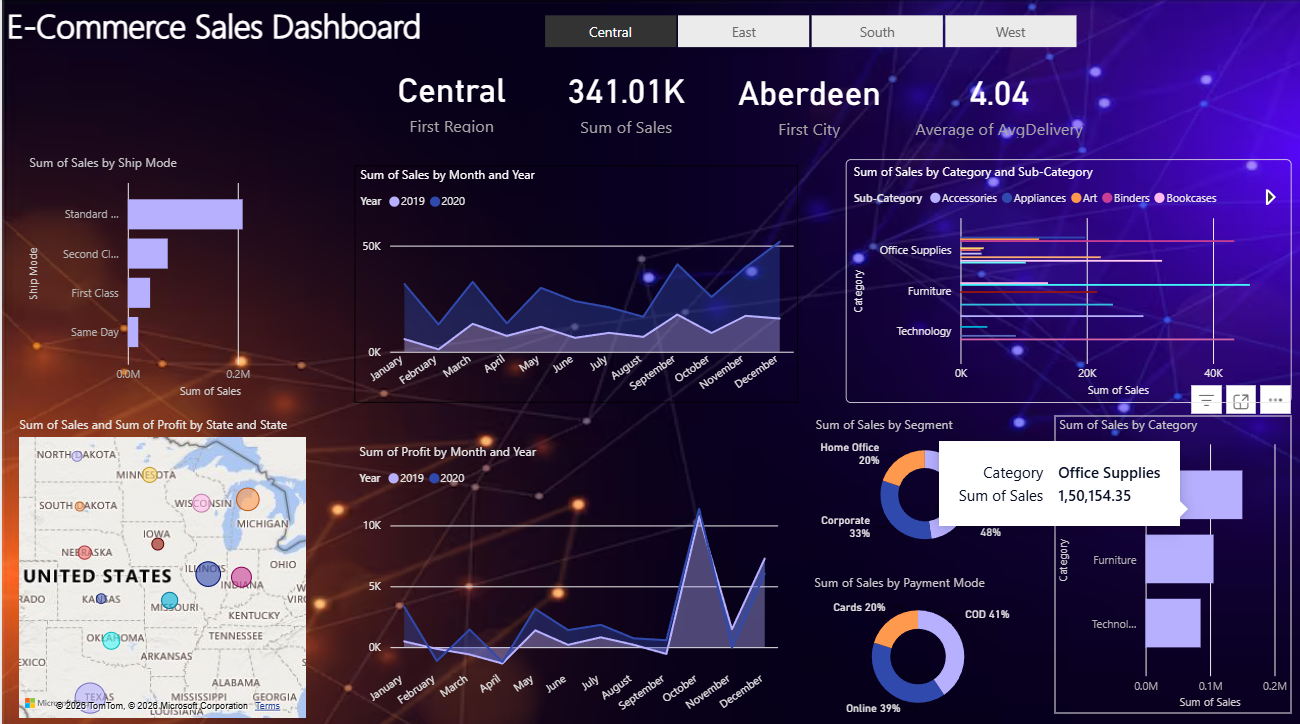

What the dashboard file says about the page in this screenshot:
{"tool":"powerbi","page":{"name":"Sales Analysis","canvas":[1280,720],"ordinal":0},"visuals":[{"type":"clusteredBarChart","fields":{"Category":["SuperStore_Sales_Dataset (2).Category"],"Y":["Sum(SuperStore_Sales_Dataset (2).Sales)"]},"box":[1033.1,409.8,233.1,293.3],"z":0},{"type":"clusteredBarChart","fields":{"Category":["SuperStore_Sales_Dataset (2).Category"],"Y":["Sum(SuperStore_Sales_Dataset (2).Sales)"],"Series":["SuperStore_Sales_Dataset (2).Sub-Category"]},"box":[828.2,158.1,437.5,239.3],"z":1000},{"type":"clusteredBarChart","fields":{"Category":["SuperStore_Sales_Dataset (2).Ship Mode"],"Y":["Sum(SuperStore_Sales_Dataset (2).Sales)"]},"box":[22.3,153.6,280.5,243.8],"z":2000},{"type":"stackedAreaChart","fields":{"Y":["Sum(SuperStore_Sales_Dataset (2).Sales)"],"Category":["SuperStore_Sales_Dataset (2).Order Date.Variation.Date Hierarchy.Month","SuperStore_Sales_Dataset (2).Order Date.Variation.Date Hierarchy.Day"],"Series":["SuperStore_Sales_Dataset (2).Order Date.Variation.Date Hierarchy.Year"]},"box":[346.2,164.8,435.3,232.7],"z":3000},{"type":"stackedAreaChart","fields":{"Category":["SuperStore_Sales_Dataset (2).Order Date.Variation.Date Hierarchy.Month","SuperStore_Sales_Dataset (2).Order Date.Variation.Date Hierarchy.Day"],"Series":["SuperStore_Sales_Dataset (2).Order Date.Variation.Date Hierarchy.Year"],"Y":["Sum(SuperStore_Sales_Dataset (2).Profit)"]},"box":[346.2,436.4,420.8,275],"z":4000},{"type":"map","fields":{"Category":["SuperStore_Sales_Dataset (2).State"],"Series":["SuperStore_Sales_Dataset (2).State"],"Size":["Sum(SuperStore_Sales_Dataset (2).Sales)"]},"box":[12.3,409.8,290.8,301.8],"z":5000},{"type":"donutChart","fields":{"Category":["SuperStore_Sales_Dataset (2).Segment"],"Y":["Sum(SuperStore_Sales_Dataset (2).Sales)"]},"box":[793.9,409.8,224.5,139.9],"z":6000},{"type":"donutChart","fields":{"Category":["SuperStore_Sales_Dataset (2).Payment Mode"],"Y":["Sum(SuperStore_Sales_Dataset (2).Sales)"]},"box":[792.6,565.6,213.5,146],"z":7000},{"type":"slicer","fields":{"Values":["SuperStore_Sales_Dataset (2).Region"]},"box":[506.8,9.8,571.8,45.4],"z":8000},{"type":"textbox","box":[0,0,462.6,71.2],"z":9000},{"type":"card","fields":{"Values":["Avg(SuperStore_Sales_Dataset (2).AvgDelivery)"]},"box":[879.8,61.4,198.8,81],"z":10000},{"type":"card","fields":{"Values":["Sum(SuperStore_Sales_Dataset (2).Sales)"]},"box":[535,61.4,155.8,77.3],"z":11000},{"type":"card","fields":{"Values":["Min(SuperStore_Sales_Dataset (2).City)"]},"box":[716.6,61.4,152.1,81],"z":12000},{"type":"card","fields":{"Values":["Min(SuperStore_Sales_Dataset (2).Region)"]},"box":[362,61.4,159.5,76.1],"z":13000}]}

Visuals, with their boxes in screenshot pixels (x1, y1, x2, y2), scaled from the page's 1280x720 canvas onto the 1300x724 screenshot:
clusteredBarChart - SuperStore_Sales_Dataset (2).Category x Sum(SuperStore_Sales_Dataset (2).Sales): crop(1049, 412, 1286, 707)
clusteredBarChart - SuperStore_Sales_Dataset (2).Category x Sum(SuperStore_Sales_Dataset (2).Sales): crop(841, 159, 1285, 400)
clusteredBarChart - SuperStore_Sales_Dataset (2).Ship Mode x Sum(SuperStore_Sales_Dataset (2).Sales): crop(23, 154, 308, 400)
stackedAreaChart - Sum(SuperStore_Sales_Dataset (2).Sales) x SuperStore_Sales_Dataset (2).Order Date.Variation.Date Hierarchy.Month: crop(352, 166, 794, 400)
stackedAreaChart - SuperStore_Sales_Dataset (2).Order Date.Variation.Date Hierarchy.Month x SuperStore_Sales_Dataset (2).Order Date.Variation.Date Hierarchy.Day: crop(352, 439, 779, 715)
map - SuperStore_Sales_Dataset (2).State x SuperStore_Sales_Dataset (2).State: crop(12, 412, 308, 716)
donutChart - SuperStore_Sales_Dataset (2).Segment x Sum(SuperStore_Sales_Dataset (2).Sales): crop(806, 412, 1034, 553)
donutChart - SuperStore_Sales_Dataset (2).Payment Mode x Sum(SuperStore_Sales_Dataset (2).Sales): crop(805, 569, 1022, 716)
slicer - SuperStore_Sales_Dataset (2).Region: crop(515, 10, 1095, 56)
textbox: crop(0, 0, 470, 72)
card - Avg(SuperStore_Sales_Dataset (2).AvgDelivery): crop(894, 62, 1095, 143)
card - Sum(SuperStore_Sales_Dataset (2).Sales): crop(543, 62, 702, 139)
card - Min(SuperStore_Sales_Dataset (2).City): crop(728, 62, 882, 143)
card - Min(SuperStore_Sales_Dataset (2).Region): crop(368, 62, 530, 138)
